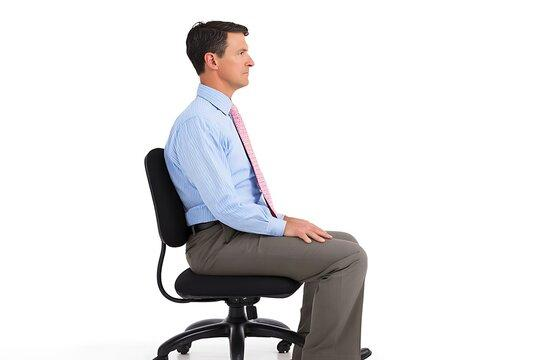Good Sitting Posture: (161, 18, 373, 359)
